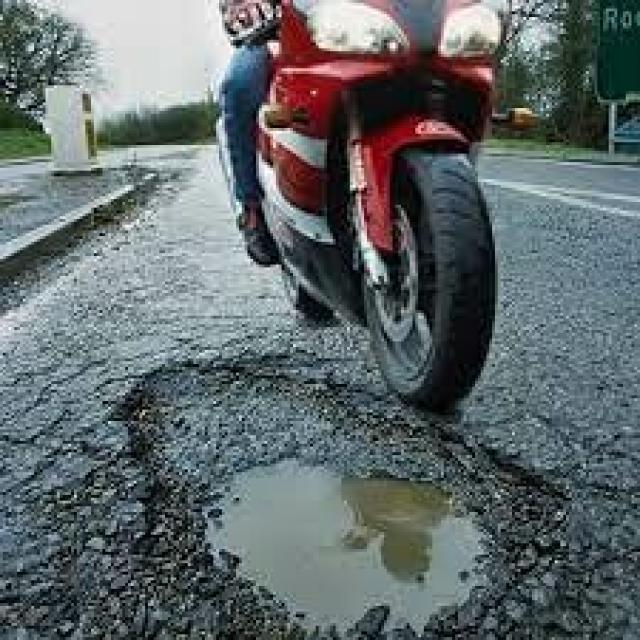Pothole: (116, 364, 608, 640)
